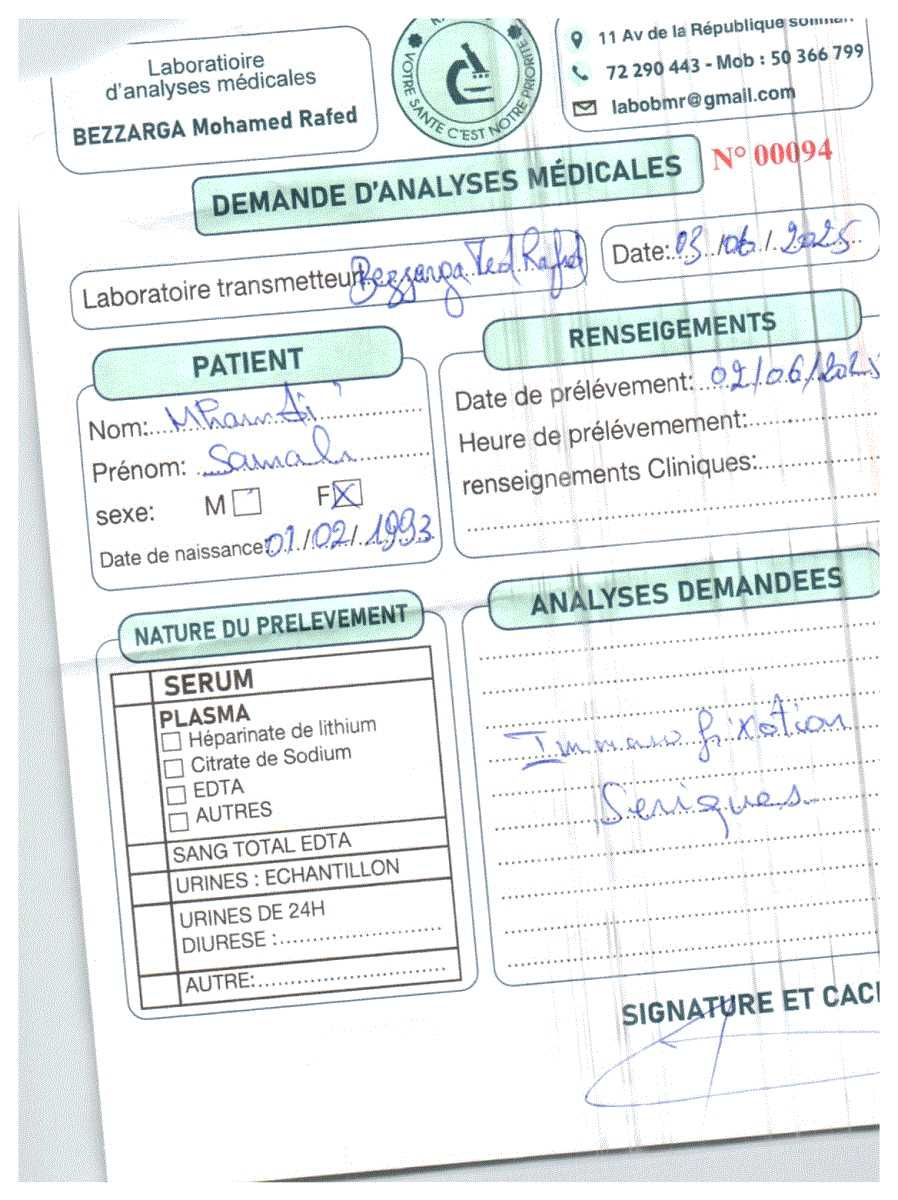zone_analyses: (459, 573, 870, 930)
zone_commentaires: (593, 227, 873, 280)
zone_date: (69, 339, 444, 573)
